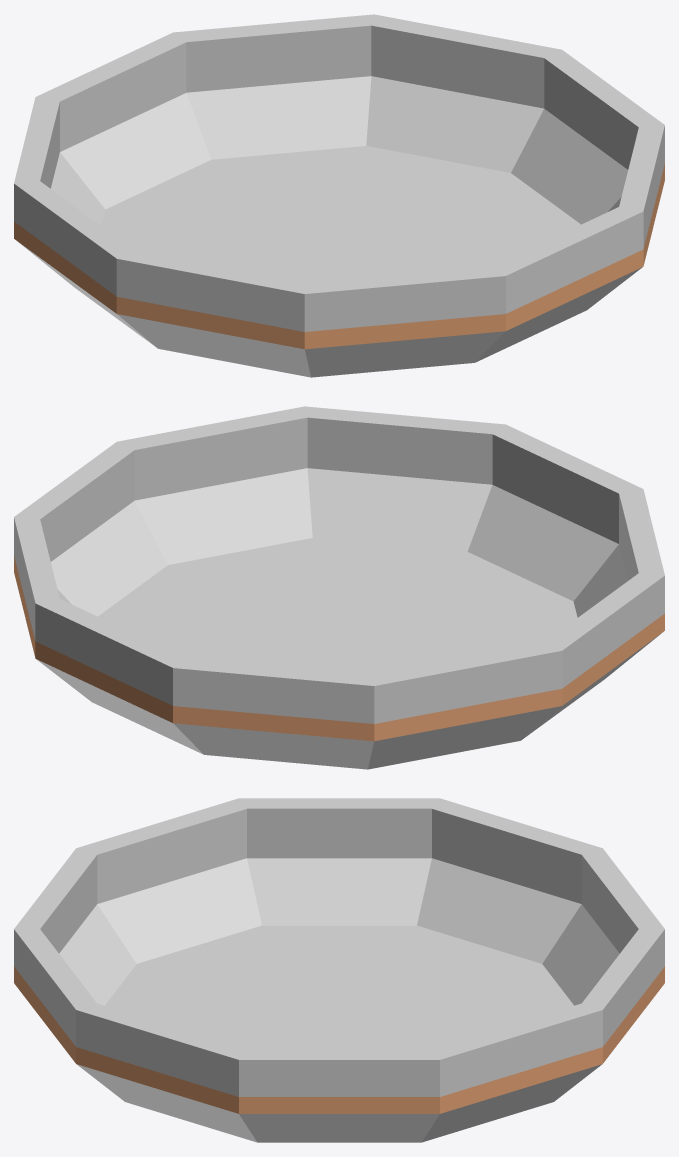
The model's file is white plate.fbx.
3 views of the same model, one above another, from view 1: azimuth 30°, elevation 25°; view 2: azimuth 150°, elevation 25°; view 3: azimuth 270°, elevation 25° (orthographic). The views are drawn at different scales.
Parts seen in each view (by area): view 1: Plate; view 2: Plate; view 3: Plate.
Boxes of the visible parts, bbox=[...] form: Plate: bbox=[14, 14, 664, 377]; Plate: bbox=[14, 406, 664, 769]; Plate: bbox=[14, 798, 664, 1142].
Bounding box in the file's own units: 109 × 20.85 × 115.
